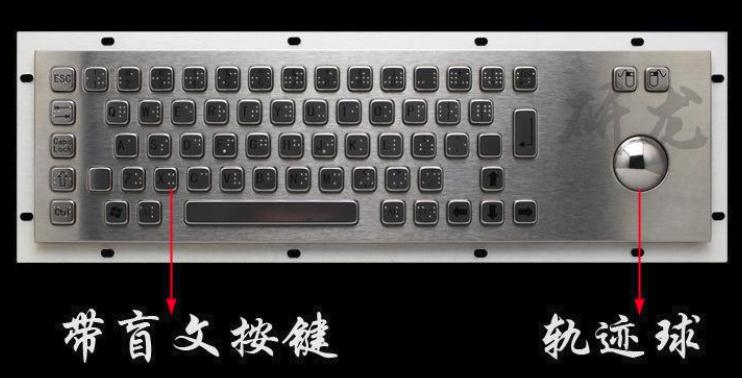Braille: (161, 72, 173, 86), (85, 70, 95, 86), (283, 70, 293, 86), (394, 70, 404, 86), (527, 70, 537, 85), (150, 105, 160, 120), (249, 104, 259, 119), (295, 69, 304, 85), (416, 103, 425, 119), (183, 71, 193, 85), (118, 105, 128, 119), (159, 139, 169, 153), (133, 172, 143, 186), (232, 172, 242, 186), (150, 205, 160, 219), (383, 205, 393, 219), (97, 71, 106, 86), (129, 71, 138, 86), (228, 70, 237, 85), (316, 70, 325, 85), (362, 70, 371, 85), (461, 70, 470, 85), (483, 71, 492, 86), (515, 70, 524, 85), (217, 104, 226, 119), (483, 104, 492, 119), (358, 138, 367, 153), (392, 138, 401, 153), (447, 137, 456, 152), (458, 137, 467, 152), (366, 172, 375, 187), (355, 172, 364, 187), (399, 171, 408, 186), (387, 172, 397, 185), (138, 206, 148, 219), (262, 70, 270, 86), (329, 69, 337, 85), (450, 70, 458, 86), (150, 72, 159, 86), (250, 71, 259, 85), (383, 71, 392, 85), (417, 71, 426, 85), (428, 71, 437, 85), (184, 105, 193, 119), (383, 105, 392, 119), (438, 104, 447, 118), (127, 139, 136, 153), (193, 138, 202, 152), (259, 138, 268, 152), (413, 139, 422, 153), (433, 172, 442, 186), (166, 172, 175, 186), (200, 172, 209, 186), (300, 172, 309, 186), (421, 171, 430, 185), (196, 70, 204, 85), (350, 70, 358, 85), (495, 70, 503, 85), (284, 104, 292, 119), (317, 104, 325, 119), (350, 104, 358, 119), (472, 104, 480, 119), (226, 137, 234, 152), (426, 138, 434, 153), (417, 205, 425, 220), (118, 72, 127, 85), (450, 105, 459, 118), (325, 139, 334, 152), (266, 172, 275, 185), (333, 173, 342, 186), (218, 71, 226, 85), (293, 138, 301, 152), (395, 206, 403, 220), (428, 206, 436, 220)
